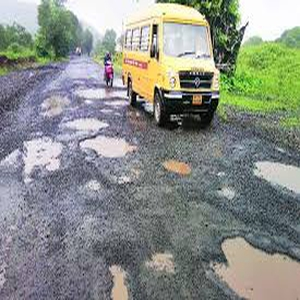pothole: (204, 223, 300, 299), (253, 159, 300, 200), (76, 133, 140, 161), (64, 111, 109, 132), (162, 157, 191, 175)
